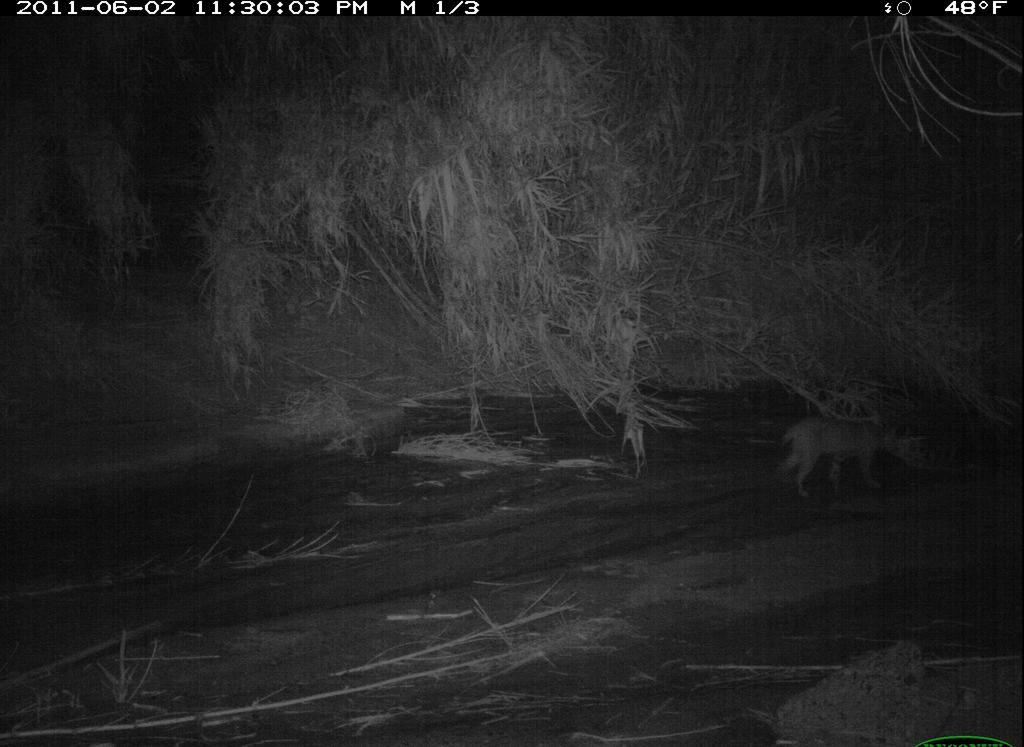bobcat: (756, 401, 934, 506)
